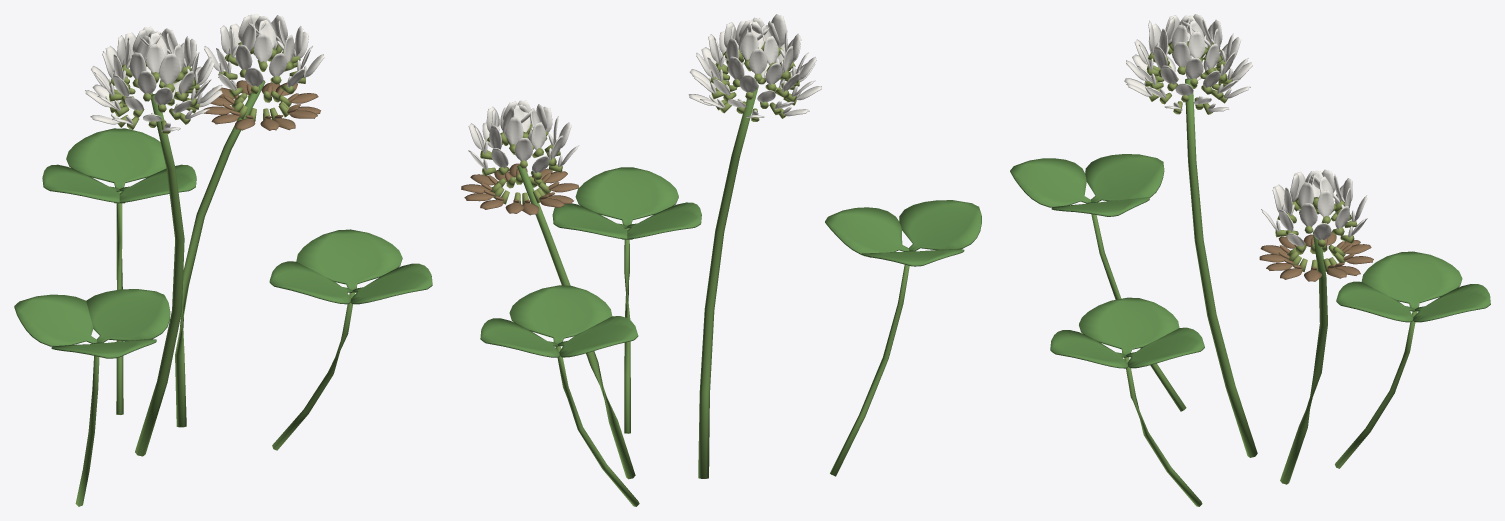
File: flower-trifolium.glb
The picture shows the model from 3 angles, left to right: view 1: azimuth 30°, elevation 25°; view 2: azimuth 150°, elevation 25°; view 3: azimuth 270°, elevation 25°; orthographic projection. The views are drawn at different scales.
Visible parts, largest first — view 1: leaves, old_head_florets, head_florets, stalks, hero_petals; view 2: leaves, old_head_florets, head_florets, stalks; view 3: leaves, old_head_florets, head_florets, stalks.
Boxes of the visible parts, bbox=[...] form: leaves: bbox=[14, 128, 432, 506]; old_head_florets: bbox=[203, 14, 324, 130]; head_florets: bbox=[85, 26, 222, 134]; stalks: bbox=[135, 80, 265, 456]; hero_petals: bbox=[159, 53, 179, 85]; leaves: bbox=[480, 167, 981, 506]; old_head_florets: bbox=[461, 100, 579, 215]; head_florets: bbox=[688, 17, 821, 121]; stalks: bbox=[517, 85, 758, 479]; leaves: bbox=[1010, 154, 1490, 506]; old_head_florets: bbox=[1259, 169, 1373, 281]; head_florets: bbox=[1124, 14, 1252, 114]; stalks: bbox=[1185, 78, 1327, 484].
Bounding box in the file's own units: 8.16 × 8.88 × 9.04.
